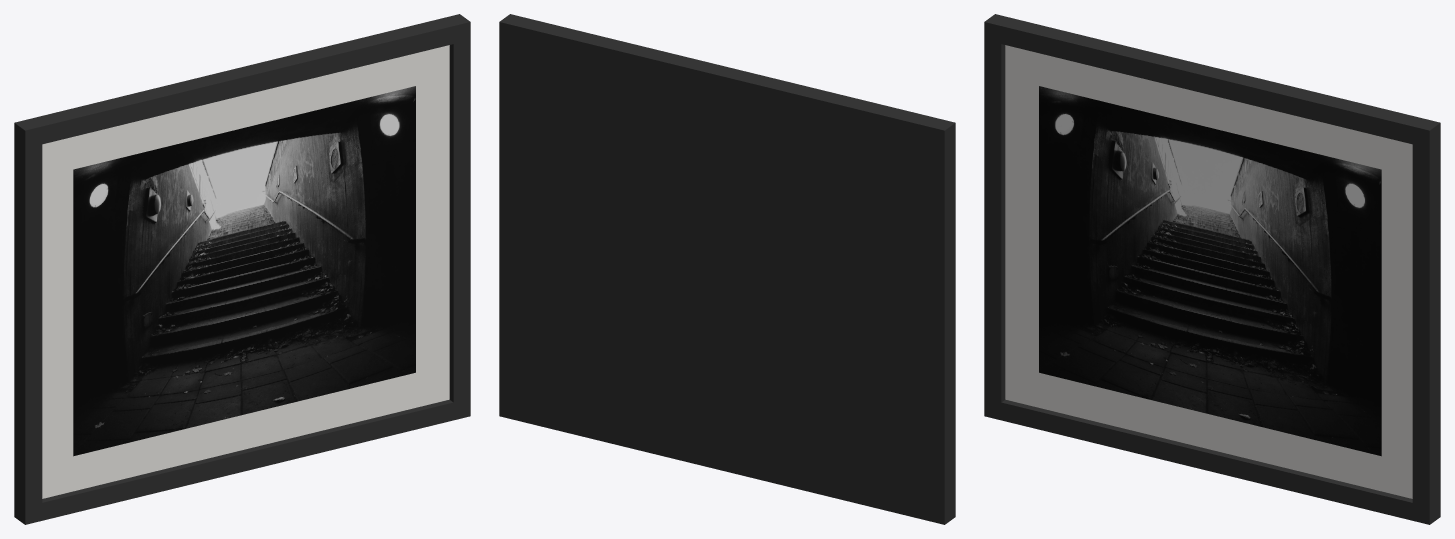
The model's file is uppgangen-40.gltf.
3 renders of one model, left to right at view 1: azimuth 30°, elevation 25°; view 2: azimuth 150°, elevation 25°; view 3: azimuth 330°, elevation 25°, orthographic.
Visible parts, largest first — view 1: tavla; view 2: tavla; view 3: tavla.
Boxes of the visible parts, x1,y1,x2,y2 form: tavla: (14, 14, 470, 524); tavla: (499, 14, 955, 524); tavla: (984, 14, 1440, 524).
Bounding box in the file's own units: 0.52 × 0.4398 × 0.022.
Materials: 3 (1 with a texture image).
